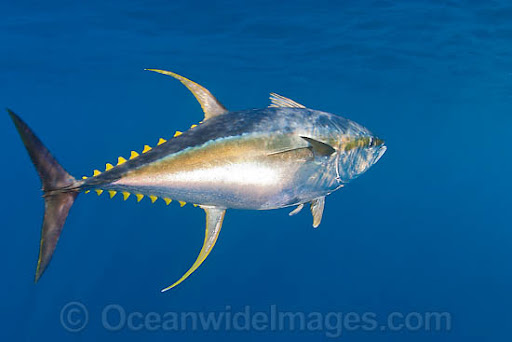Fish: (8, 65, 390, 285)
